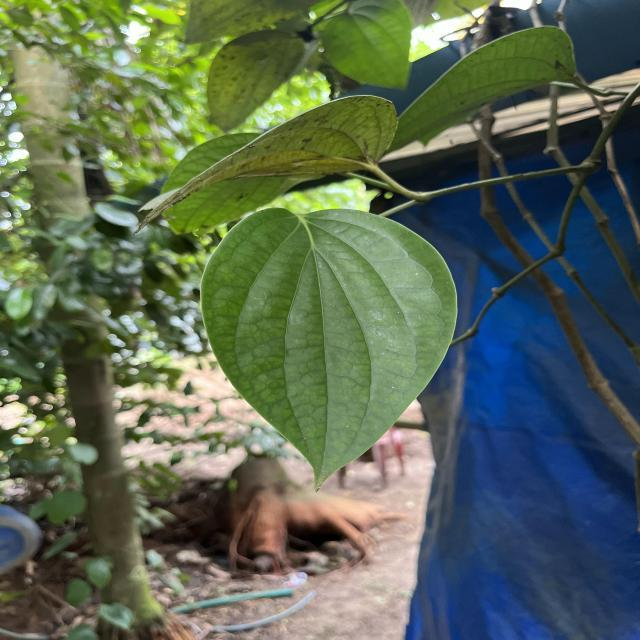Piper nigrum: (195, 205, 464, 492)
